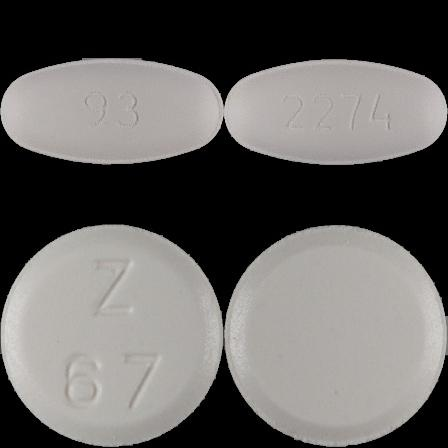53808-0341: (0, 0, 224, 224)
